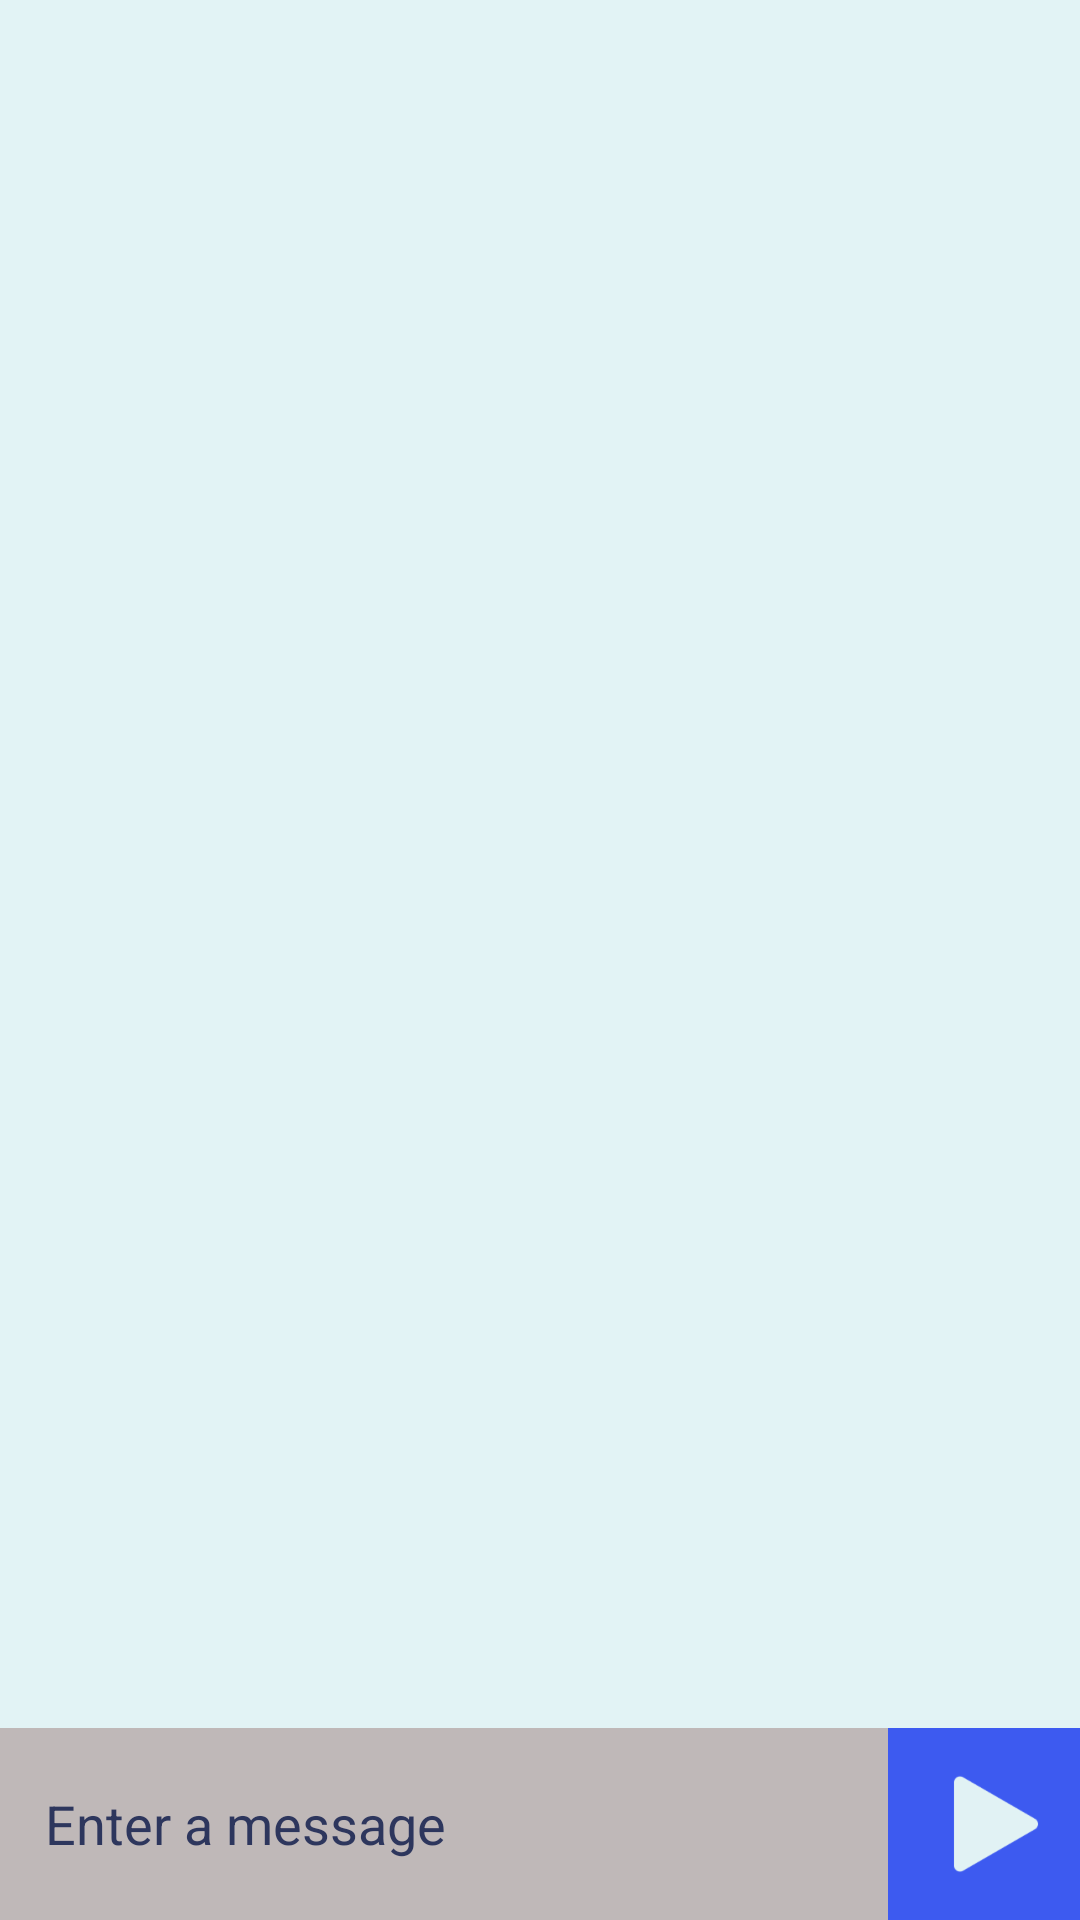

Where to tap for icons on this 1080 x 1920 app screen, as [x,y]:
sendbox: [984,1824]
